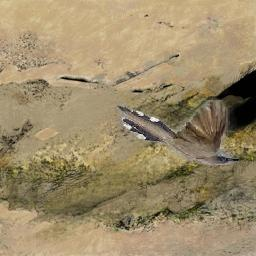Cuckoo: (117, 101, 239, 166)
